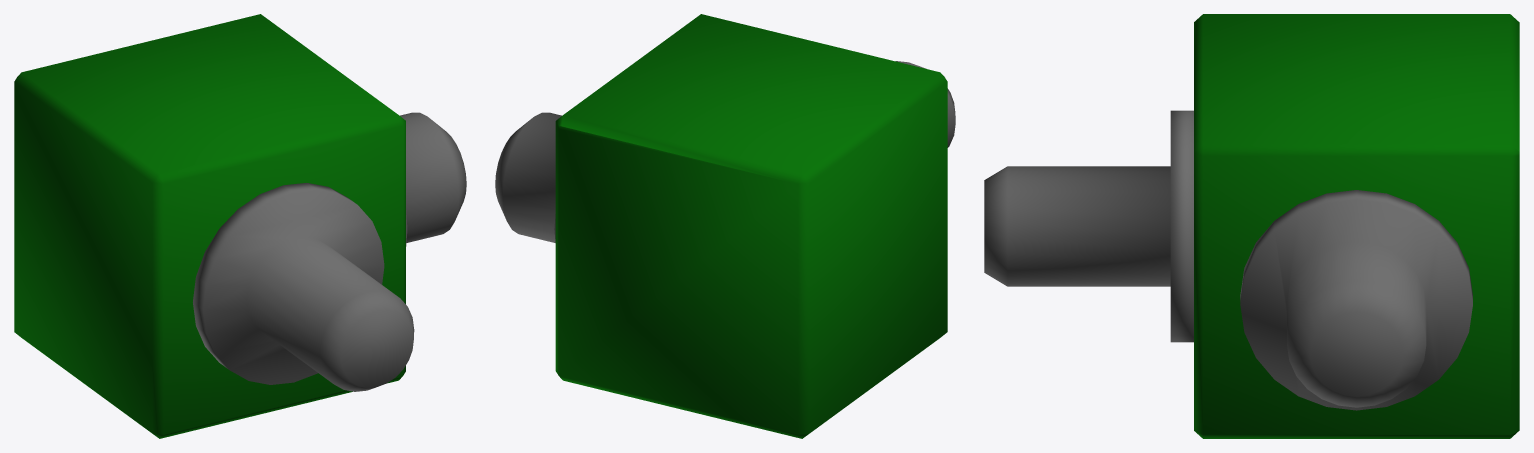
The model's file is regulator_green.dae.
3 views of the same model, side by side, from view 1: azimuth 30°, elevation 25°; view 2: azimuth 150°, elevation 25°; view 3: azimuth 270°, elevation 25° (orthographic). The views are drawn at different scales.
Parts seen in each view (by area): view 1: regulator_short_peg; view 2: regulator_short_peg; view 3: regulator_short_peg.
Part boxes in pixels (x1,y1,x2,y2): regulator_short_peg: [14, 14, 466, 438]; regulator_short_peg: [495, 14, 955, 438]; regulator_short_peg: [984, 14, 1519, 438].
Size of the model in its own units: 0.1 by 0.115 by 0.07.
